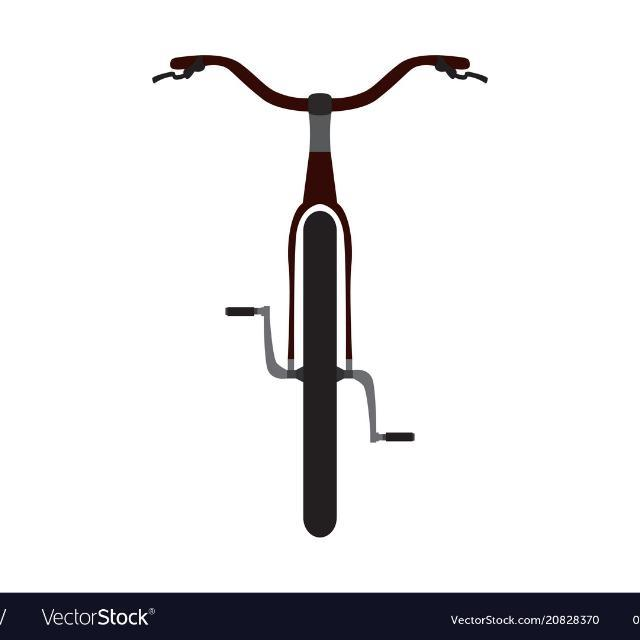obstacle: (148, 38, 497, 546)
